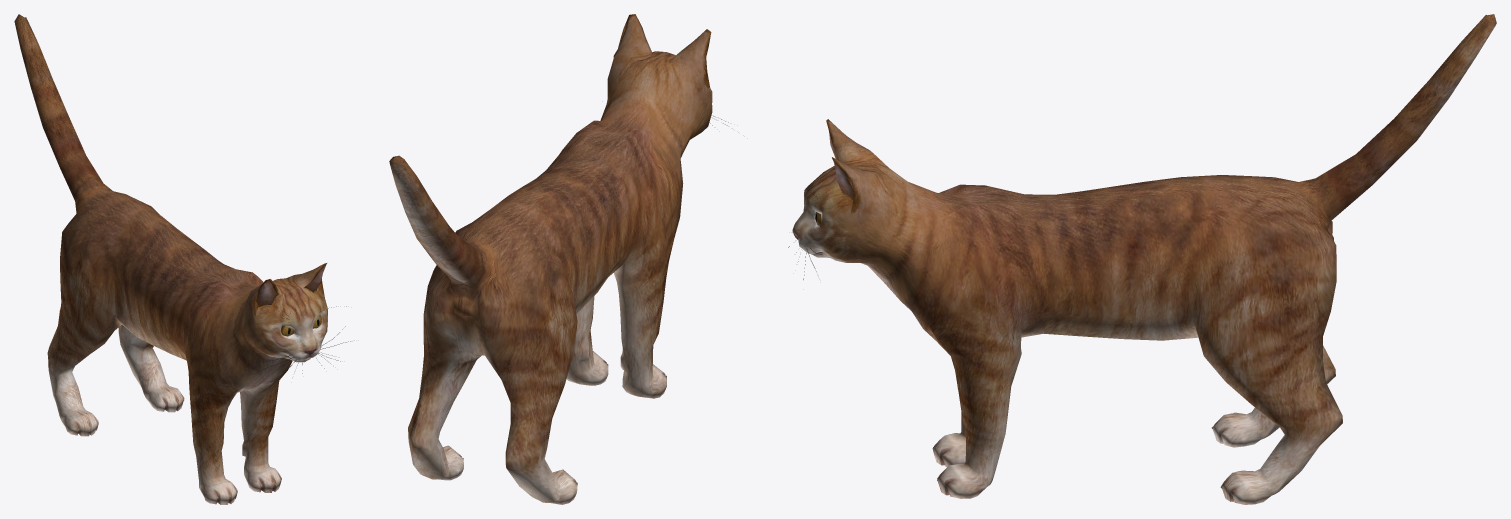
The model's file is catD.obj.
The picture shows the model from 3 angles, left to right: view 1: azimuth 30°, elevation 25°; view 2: azimuth 150°, elevation 25°; view 3: azimuth 270°, elevation 25°; orthographic projection. The views are drawn at different scales.
Visible parts, largest first — view 1: cat9:Mesh cat9:group cat9:polySurface1 group; view 2: cat9:Mesh cat9:group cat9:polySurface1 group; view 3: cat9:Mesh cat9:group cat9:polySurface1 group.
Boxes of the visible parts, box(x1,y1,x2,y2) form: cat9:Mesh cat9:group cat9:polySurface1 group: box(14, 14, 350, 504); cat9:Mesh cat9:group cat9:polySurface1 group: box(389, 14, 728, 504); cat9:Mesh cat9:group cat9:polySurface1 group: box(788, 14, 1496, 504).
Size of the model in its own units: 38.9 by 92.19 by 134.
Materials: 1 (1 with a texture image).
